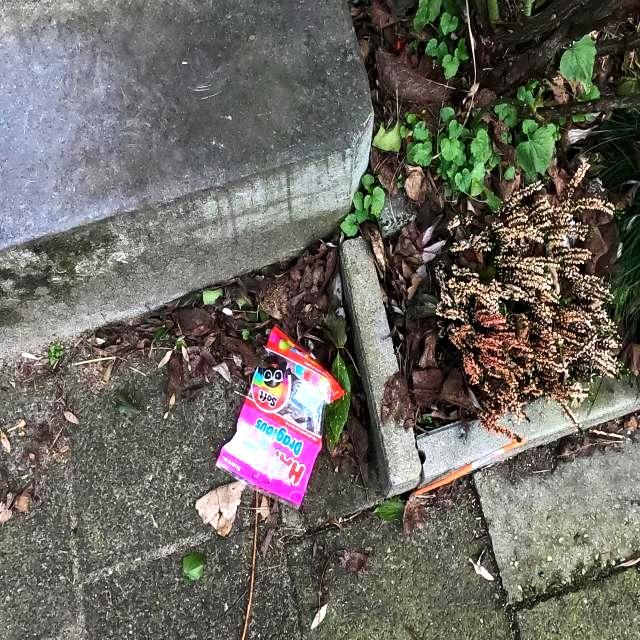Plastic: (214, 321, 346, 513)
